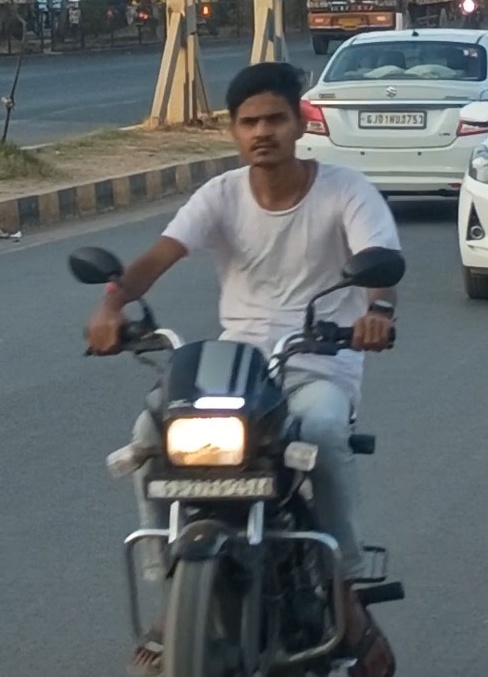BikeWithRider: (58, 55, 417, 676)
NoHelmet: (215, 56, 315, 174)
